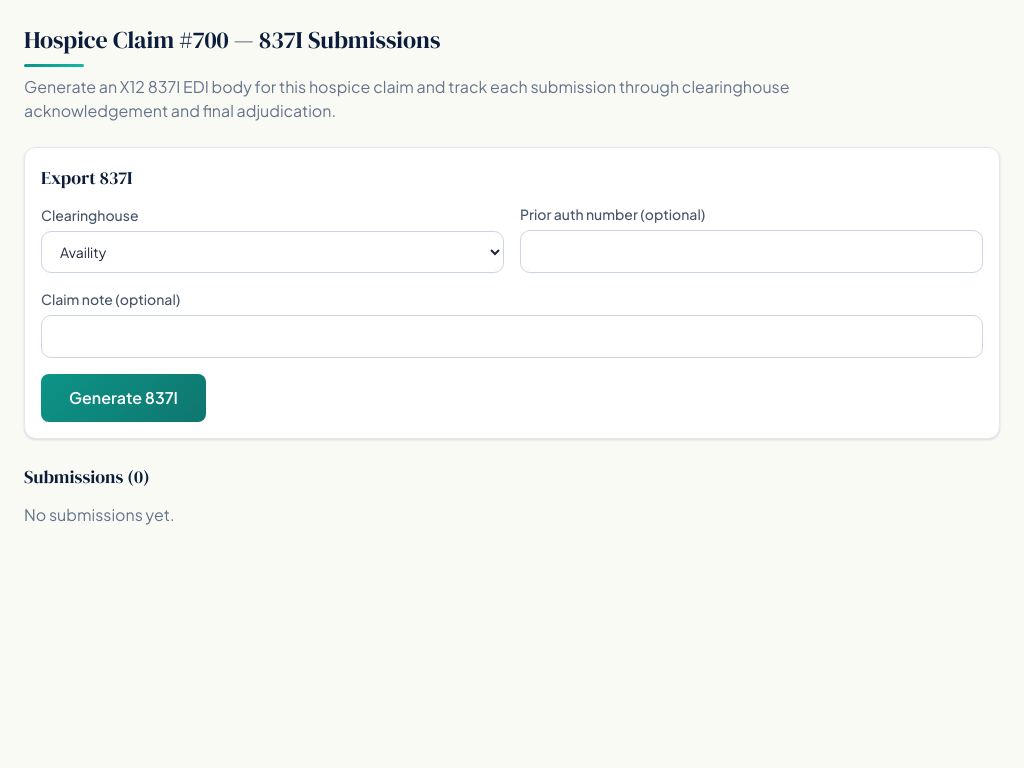
Test: HospiceClaimSubmissionsPage › shows export warnings
This screenshot has width=1024, height=768.
Expected: the heading "Submissions (0)" is shown, [24,464,150,489]
Step 1. Click the button "Generate 837I" → [123, 398], box [41,374,206,422]
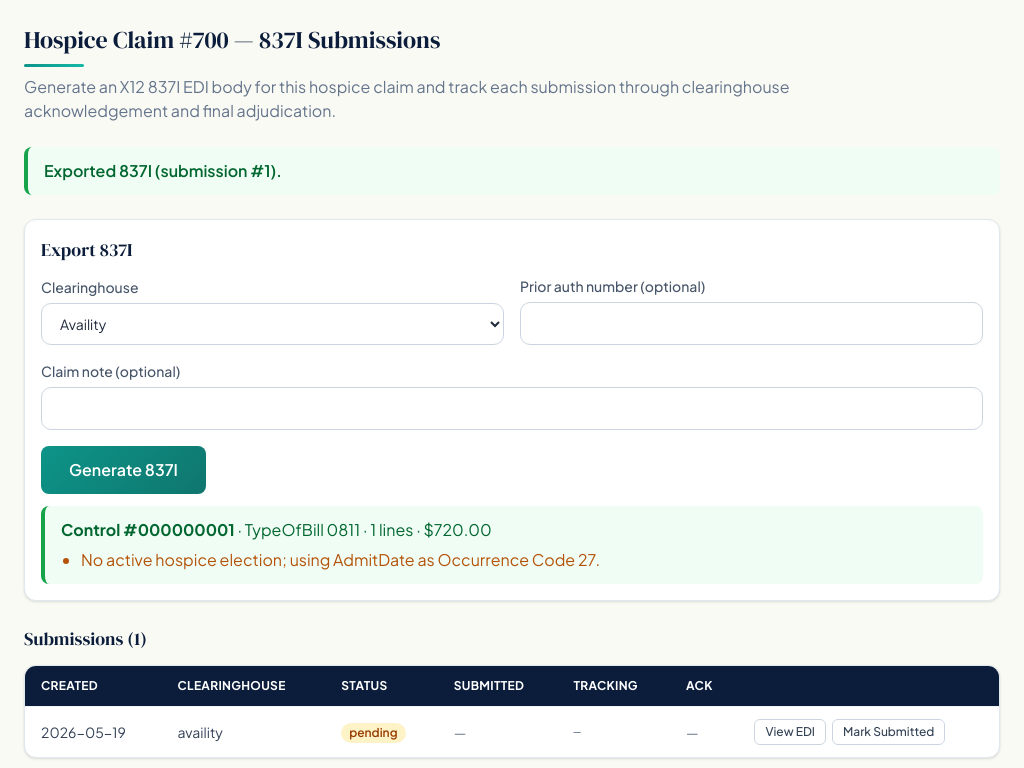
Result: the list item "No active hospice election" is shown at [81,549,600,570]
